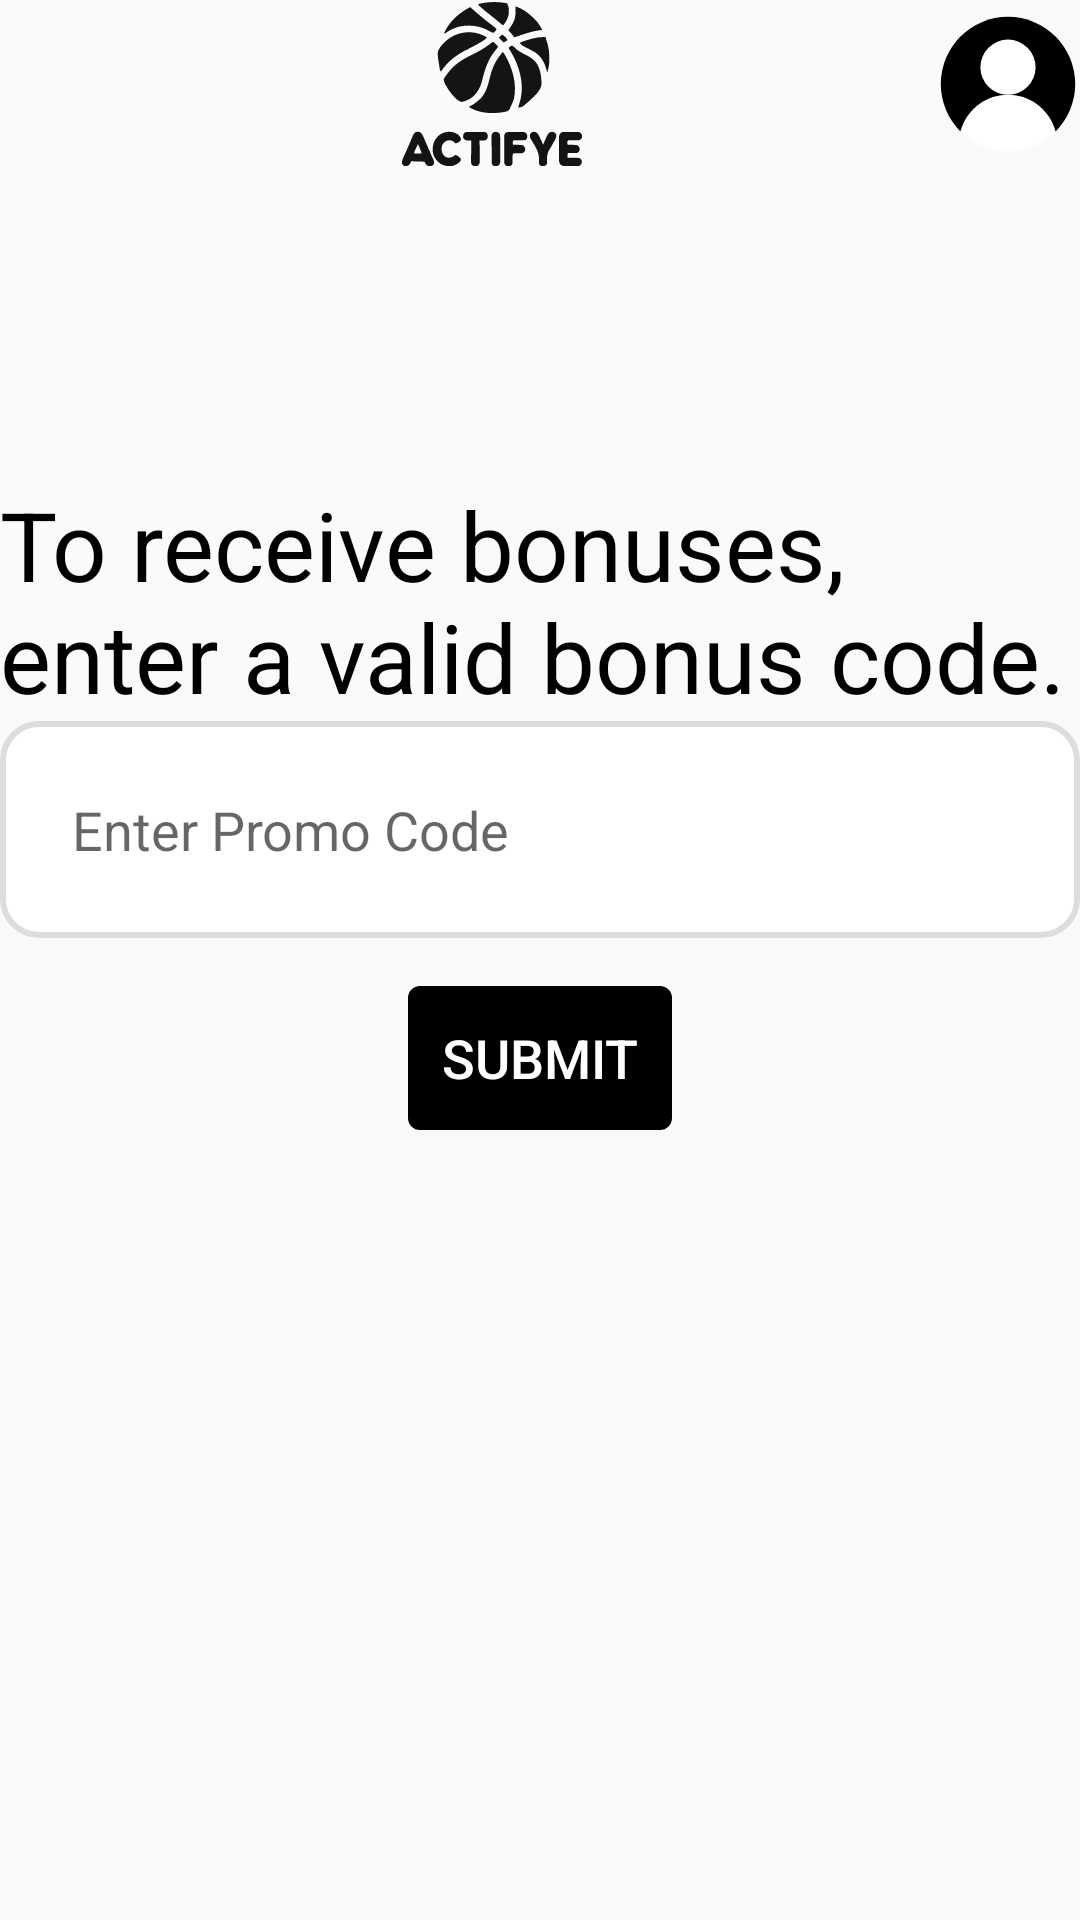

Point at icon controls on the screen. Image size 1080 × 1920, points as [x,y].
profile: [1008,74]
